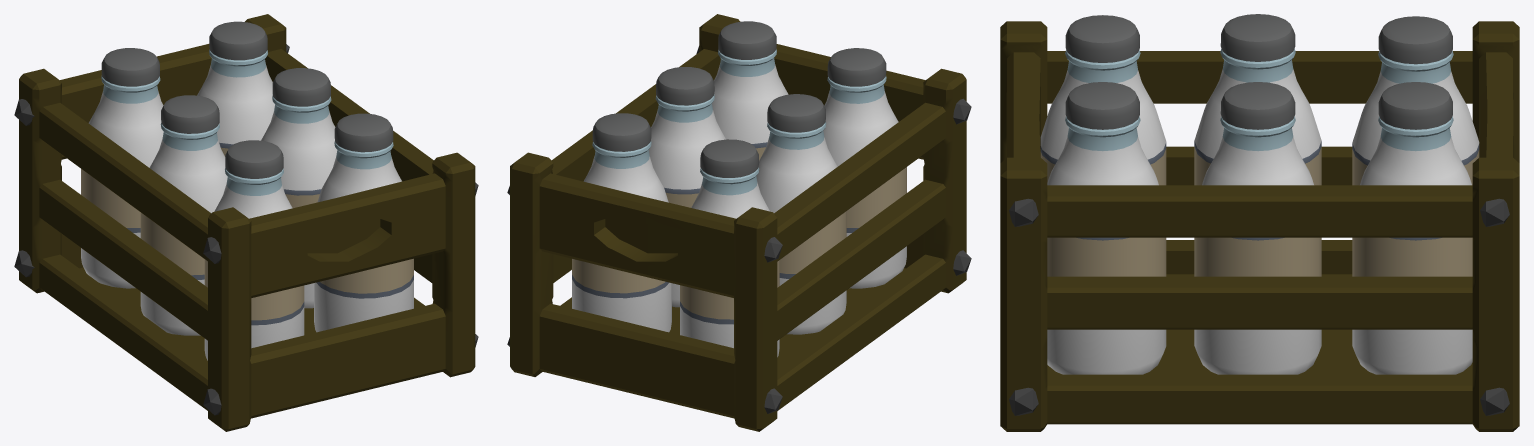
Rendered from MilkCrate.fbx.
3 views of the same model, side by side, from view 1: azimuth 30°, elevation 25°; view 2: azimuth 150°, elevation 25°; view 3: azimuth 270°, elevation 25° (orthographic). The views are drawn at different scales.
Parts seen in each view (by area): view 1: pasted__pasted__pasted__group2_pasted__pCube3, pasted__pasted__pCylinder1 (×3), pasted__pasted__pasted__pCylinder1 (×2), pasted__pCylinder1; view 2: pasted__pasted__pasted__group2_pasted__pCube3, pasted__pasted__pCylinder1 (×3), pasted__pasted__pasted__pCylinder1 (×2), pasted__pCylinder1; view 3: pasted__pasted__pasted__group2_pasted__pCube3, pasted__pasted__pCylinder1 (×3), pasted__pCylinder1, pasted__pasted__pasted__pCylinder1 (×2).
Part boxes in pixels (x1,y1,x2,y2): pasted__pasted__pasted__group2_pasted__pCube3: [14, 14, 478, 431]; pasted__pasted__pCylinder1 (×3): [81, 48, 413, 332]; pasted__pasted__pasted__pCylinder1 (×2): [140, 95, 304, 360]; pasted__pCylinder1: [197, 21, 274, 156]; pasted__pasted__pasted__group2_pasted__pCube3: [507, 14, 971, 431]; pasted__pasted__pCylinder1 (×3): [648, 21, 788, 357]; pasted__pasted__pasted__pCylinder1 (×2): [756, 48, 906, 334]; pasted__pCylinder1: [572, 113, 671, 332]; pasted__pasted__pasted__group2_pasted__pCube3: [1000, 21, 1519, 431]; pasted__pasted__pCylinder1 (×3): [1047, 16, 1479, 374]; pasted__pCylinder1: [1352, 82, 1472, 374]; pasted__pasted__pasted__pCylinder1 (×2): [1040, 14, 1321, 185].
Size of the model in its own units: 144 by 123 by 194.
